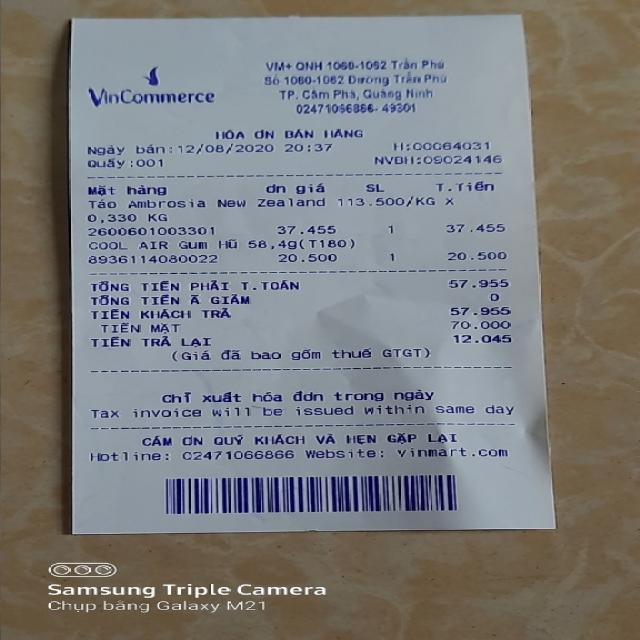Date: (178, 143, 276, 154)
Store_Name: (87, 84, 228, 109)
amount_number: (446, 278, 511, 290)
label_total: (88, 278, 304, 294)
